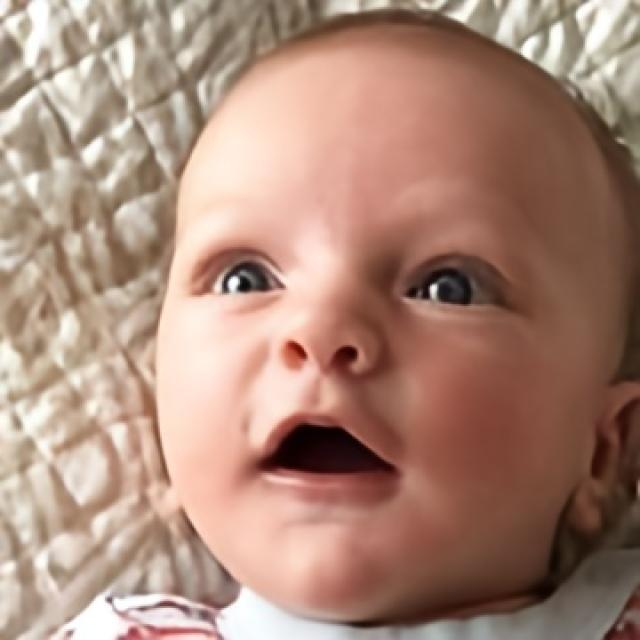surprise: (151, 13, 640, 624)
